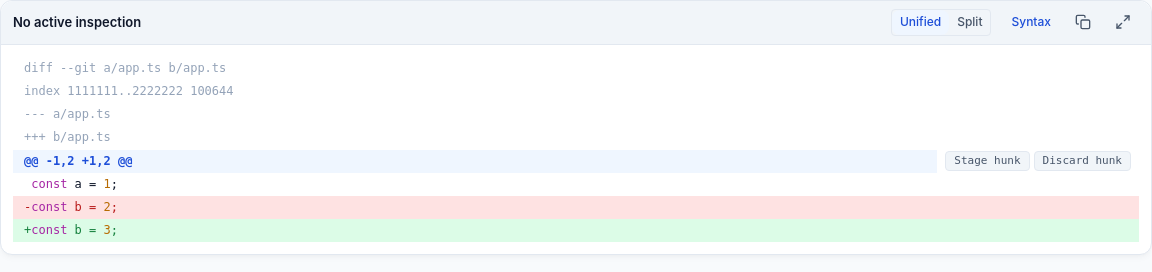
Scenario: DiffViewer (syntax highlight + toolbar) › does not show stage controls in split mode for a stageable scope
The width and height of the screenshot is (1152, 272).
Click the button "Split" at [970, 22], box x1=949 y1=10 x2=990 y2=35
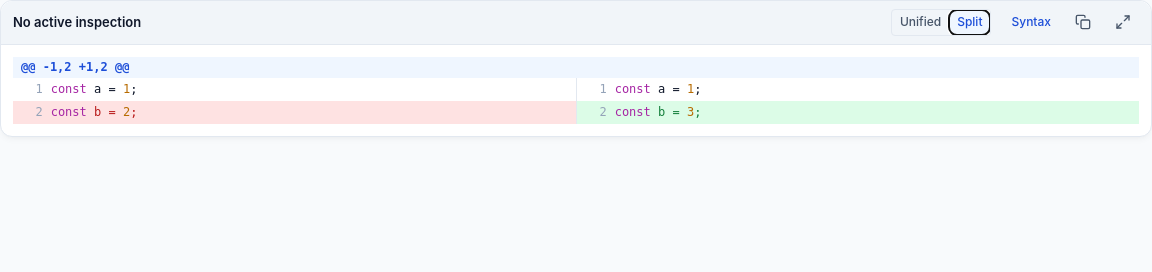
Result: the button "Stage hunk" is gone
